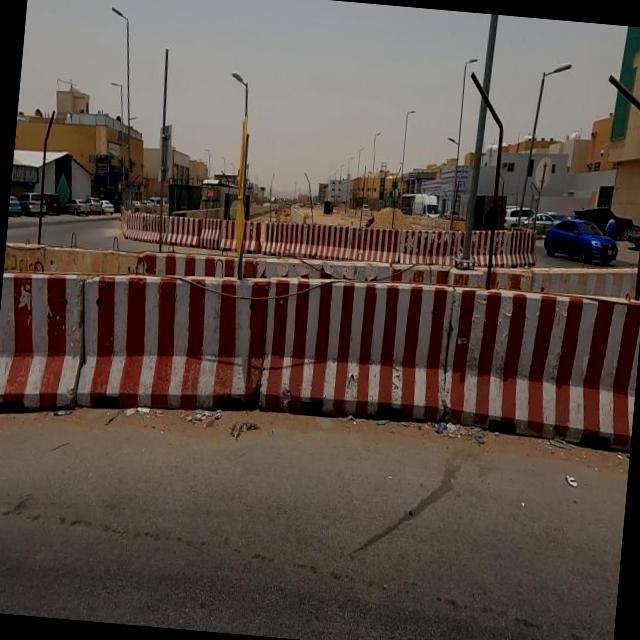debris: (154, 355, 294, 495), (389, 385, 518, 476), (100, 363, 178, 462), (529, 438, 598, 512)
